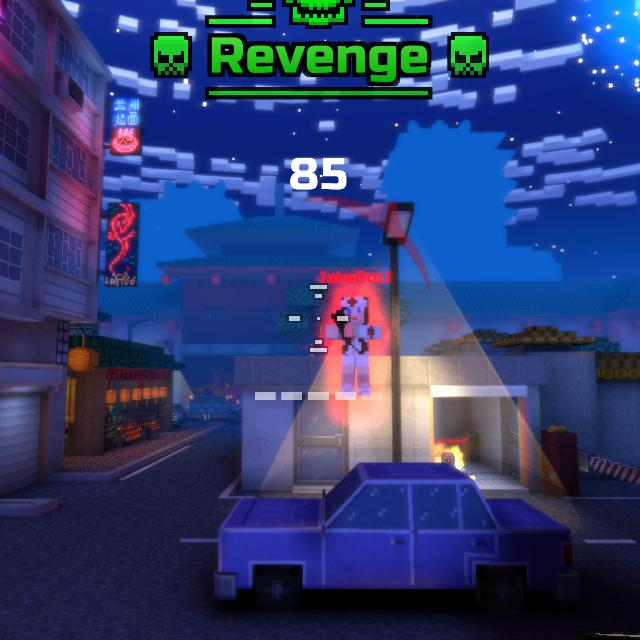Enemy: (323, 297, 381, 400)
